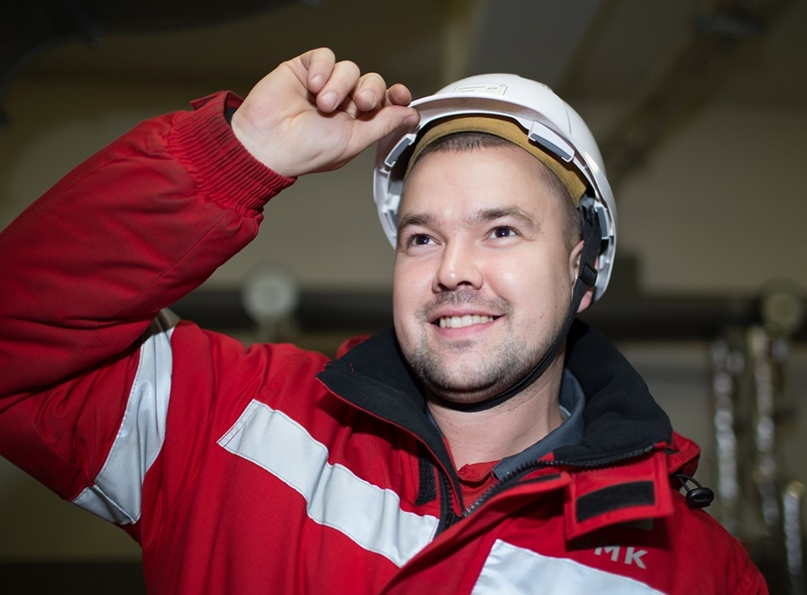person: (1, 47, 768, 594)
